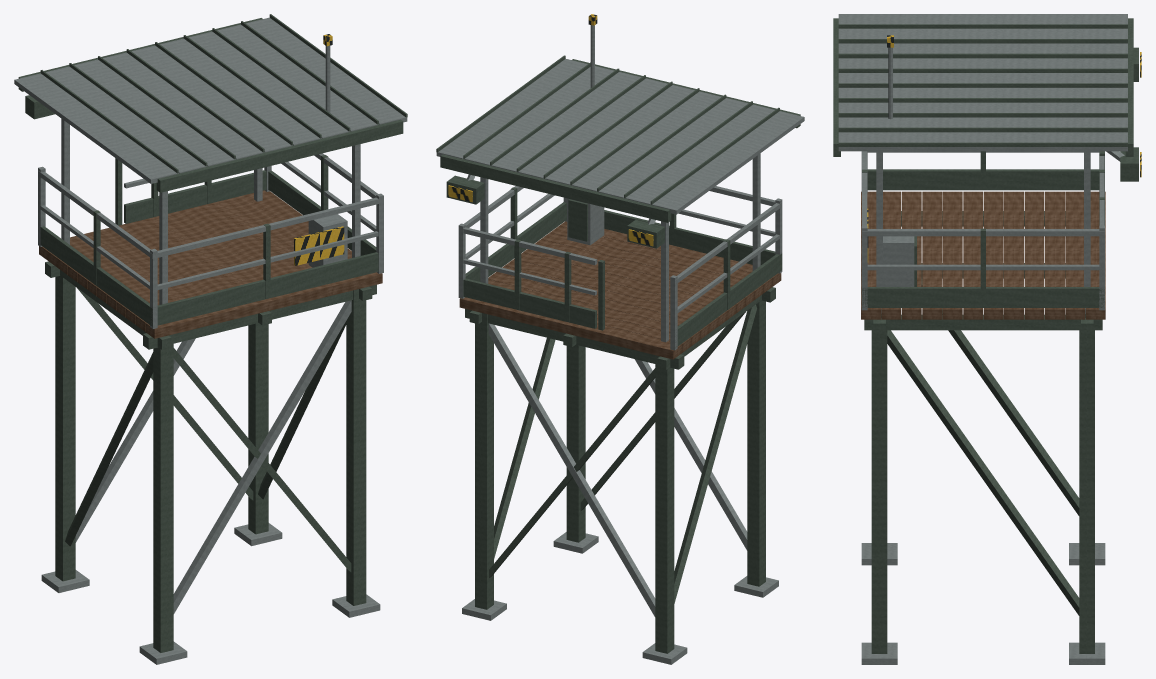
Rendered from PZ_Blackline_5m_Watchtower_Module.glb.
3 renders of one model, left to right at view 1: azimuth 30°, elevation 25°; view 2: azimuth 150°, elevation 25°; view 3: azimuth 270°, elevation 25°, orthographic. The views are drawn at different scales.
Visible parts, largest first — view 1: SM_Tower_West_Rear_SupportLeg, SM_Tower_East_Rear_SupportLeg, SM_Tower_West_Front_SupportLeg, SM_Tower_Toeboard_Rear_0, SM_Tower_Canopy_MetalPanel_00, SM_X_SideDiagonal_+1.32, SM_Tower_Canopy_RearFascia, SM_Tower_East_Front_SupportLeg, SM_Tower_Canopy_MetalPanel_01, SM_Tower_Canopy_MetalPanel_02, SM_Tower_Canopy_MetalPanel_04, SM_Tower_Canopy_MetalPanel_06 (+49 smaller); view 2: SM_Tower_West_Front_SupportLeg, SM_Tower_East_Front_SupportLeg, SM_Tower_West_Rear_SupportLeg, SM_Tower_Canopy_MetalPanel_00, SM_Tower_East_Rear_SupportLeg, SM_X_SideDiagonal_-1.32, SM_Tower_Canopy_FrontFascia, SM_Tower_FloorDeck_Plank_00, SM_Tower_Canopy_MetalPanel_08, SM_Tower_Canopy_MetalPanel_02, SM_Tower_Canopy_MetalPanel_06, SM_Tower_Canopy_MetalPanel_01 (+52 smaller); view 3: SM_Tower_East_Rear_SupportLeg, SM_Tower_East_Front_SupportLeg, SM_Tower_Toeboard_East, SM_Tower_Toeboard_West, SM_Tower_Canopy_MetalPanel_08, SM_Z_SideDiagonal_+1.50, SM_Tower_Canopy_MetalPanel_01, SM_Tower_Canopy_MetalPanel_04, SM_Tower_Canopy_MetalPanel_06, SM_Tower_Canopy_MetalPanel_00, SM_Tower_Canopy_MetalPanel_07, SM_Tower_Canopy_MetalPanel_03 (+40 smaller).
Boxes of the visible parts, x1,y1,x2,y2 form: SM_Tower_West_Rear_SupportLeg: [153, 334, 173, 652]; SM_Tower_East_Rear_SupportLeg: [346, 289, 366, 605]; SM_Tower_West_Front_SupportLeg: [55, 275, 75, 581]; SM_Tower_Toeboard_Rear_0: [157, 252, 378, 325]; SM_Tower_Canopy_MetalPanel_00: [14, 73, 178, 183]; SM_X_SideDiagonal_+1.32: [173, 300, 351, 613]; SM_Tower_Canopy_RearFascia: [156, 119, 403, 192]; SM_Tower_East_Front_SupportLeg: [248, 323, 268, 534]; SM_Tower_Canopy_MetalPanel_01: [46, 66, 207, 173]; SM_Tower_Canopy_MetalPanel_02: [74, 59, 235, 166]; SM_Tower_Canopy_MetalPanel_04: [131, 45, 292, 152]; SM_Tower_Canopy_MetalPanel_06: [189, 31, 350, 138]; SM_Tower_West_Front_SupportLeg: [655, 355, 674, 653]; SM_Tower_East_Front_SupportLeg: [475, 313, 493, 609]; SM_Tower_West_Rear_SupportLeg: [747, 300, 765, 586]; SM_Tower_Canopy_MetalPanel_00: [650, 111, 804, 214]; SM_Tower_East_Rear_SupportLeg: [566, 345, 585, 542]; SM_X_SideDiagonal_-1.32: [488, 323, 655, 616]; SM_Tower_Canopy_FrontFascia: [440, 154, 671, 222]; SM_Tower_FloorDeck_Plank_00: [459, 297, 681, 359]; SM_Tower_Canopy_MetalPanel_08: [436, 59, 587, 158]; SM_Tower_Canopy_MetalPanel_02: [597, 98, 748, 197]; SM_Tower_Canopy_MetalPanel_06: [490, 72, 641, 171]; SM_Tower_Canopy_MetalPanel_01: [624, 104, 774, 204]; SM_Tower_East_Rear_SupportLeg: [871, 314, 887, 653]; SM_Tower_East_Front_SupportLeg: [1079, 314, 1094, 653]; SM_Tower_Toeboard_East: [862, 287, 1104, 307]; SM_Tower_Toeboard_West: [867, 169, 1099, 190]; SM_Tower_Canopy_MetalPanel_08: [838, 132, 1127, 151]; SM_Z_SideDiagonal_+1.50: [887, 330, 1079, 615]; SM_Tower_Canopy_MetalPanel_01: [838, 28, 1127, 43]; SM_Tower_Canopy_MetalPanel_04: [838, 73, 1127, 87]; SM_Tower_Canopy_MetalPanel_06: [838, 102, 1127, 117]; SM_Tower_Canopy_MetalPanel_00: [838, 14, 1127, 24]; SM_Tower_Canopy_MetalPanel_07: [838, 117, 1127, 127]; SM_Tower_Canopy_MetalPanel_03: [838, 58, 1127, 68].
Size of the model in its own units: 3.99 by 8.54 by 3.92.
4 materials, 4 textured.
